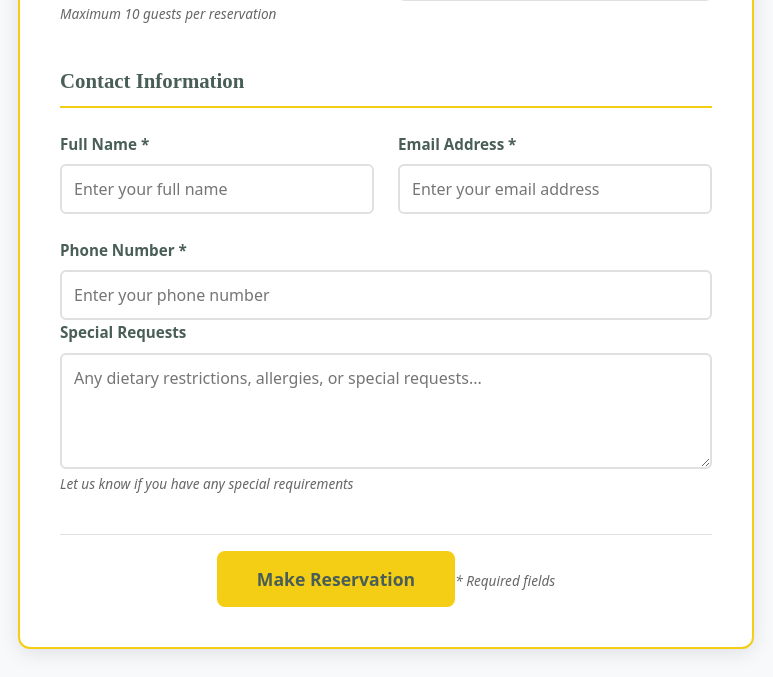
Test case: BookingForm › displays validation errors for empty required fields
(page scrolled)
Click the button "Make Reservation". click: {"x": 336, "y": 579}
box: x1=217 y1=551 x2=455 y2=607
(page scrolled)
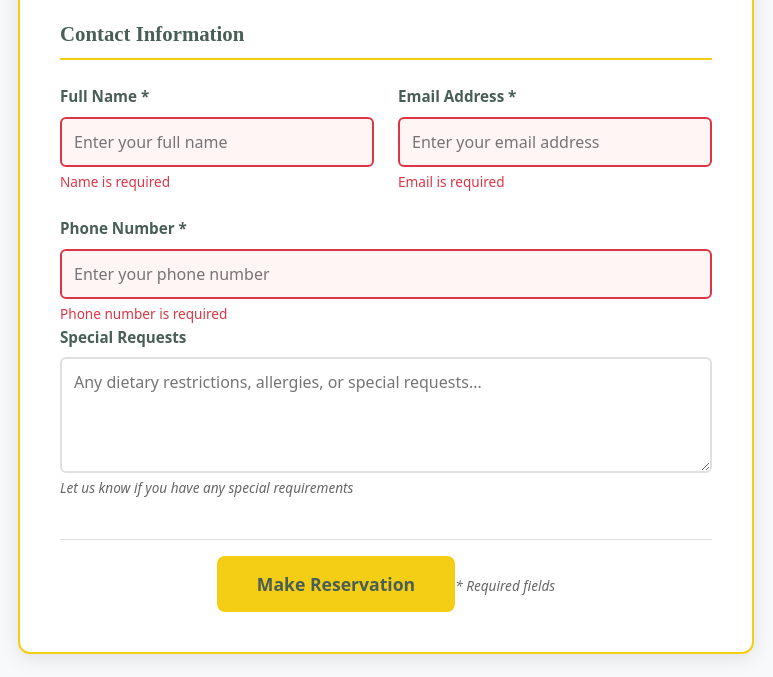
Now the text "Name is required" is shown, box x1=60 y1=172 x2=170 y2=191
Now the text "Email is required" is shown, box x1=398 y1=172 x2=505 y2=191
Now the text "Phone number is required" is shown, box x1=60 y1=304 x2=227 y2=323
